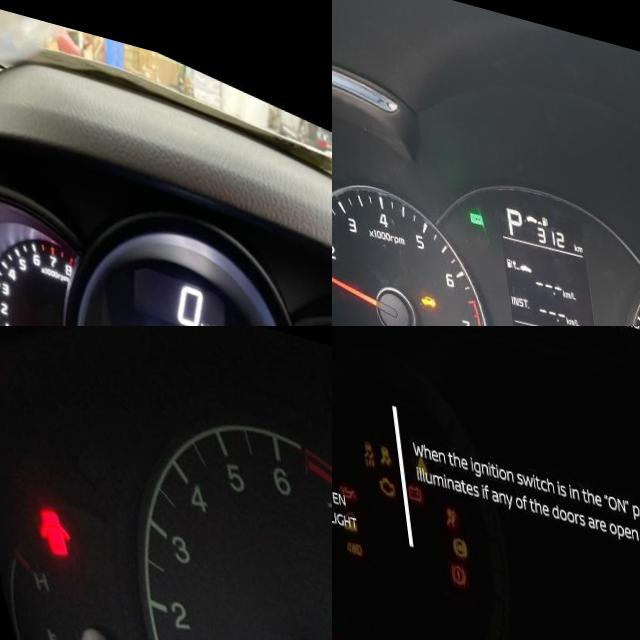Doors: (25, 497, 68, 557)
